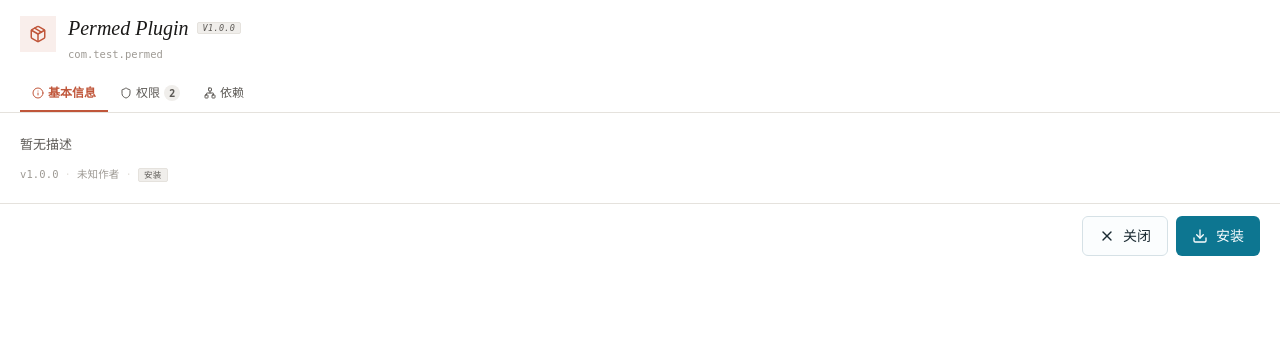
Test: BUG-B: 权限 tab 安装前展示索引声明的权限 › 未安装且 entry.permissions 非空时，权限 tab 渲染权限列表而非空状态
The image size is (1280, 344).
切到权限 tab
Click the tab with test id "pmd-tab-permissions" at (150, 94), box x1=108 y1=76 x2=192 y2=112
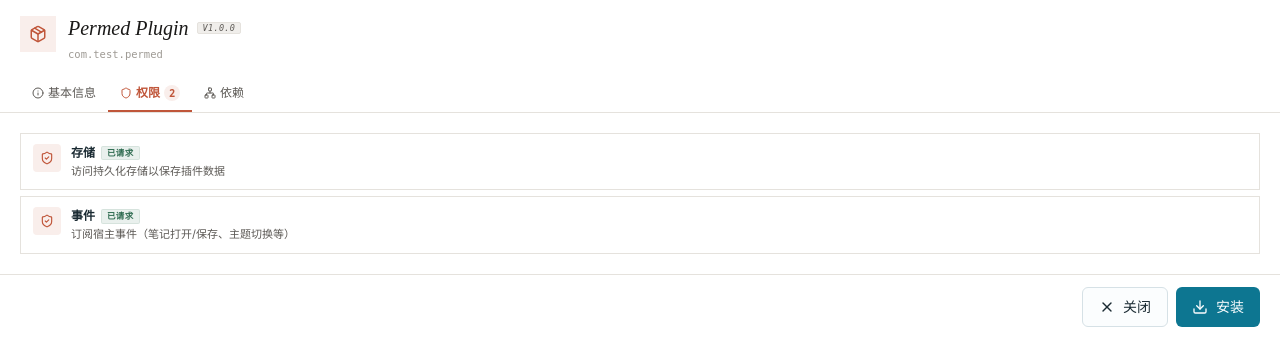
Now the list with test id "pmd-permissions-list" is shown, box x1=20 y1=133 x2=1260 y2=254
Now the number of list items with test id "pmd-permission-row" is 2, box x1=20 y1=133 x2=1260 y2=190; x1=20 y1=196 x2=1260 y2=254
